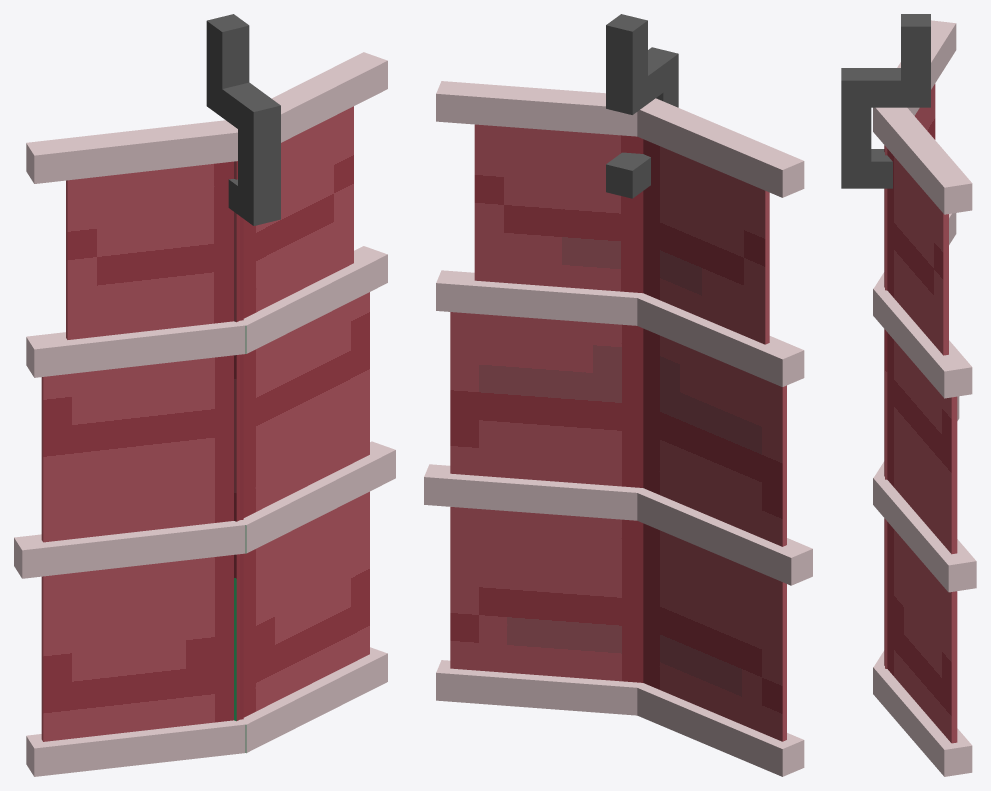
Rendered from meat.fbx.
3 views of the same model, side by side, from view 1: azimuth 30°, elevation 25°; view 2: azimuth 150°, elevation 25°; view 3: azimuth 270°, elevation 25° (orthographic). The views are drawn at different scales.
Visible parts, largest first — view 1: cube_6, cube_8, cube_12, cube_9, cube_7, cube_13, cube_11, cube_2, cube_4, cube, cube_3, cube_5 (+6 smaller); view 2: cube_7, cube_9, cube_13, cube_6, cube_8, cube_12, cube_10, cube_3, cube_11, cube_5, cube_1, cube_2 (+5 smaller); view 3: cube_7, cube_9, cube_13, cube_10, cube_3, cube_5, cube_1, cube_15, cube_17, cube_16, cube_14, cube_11 (+4 smaller).
Part boxes in pixels (box(x1,y1,x2,y2)): cube_6: box(41, 354, 243, 542); cube_8: box(41, 554, 243, 741); cube_12: box(66, 161, 243, 339); cube_9: box(234, 491, 369, 721); cube_7: box(234, 292, 369, 521); cube_13: box(234, 106, 353, 322); cube_11: box(26, 120, 237, 183); cube_2: box(14, 519, 246, 578); cube_4: box(26, 320, 246, 377); cube: box(26, 719, 246, 776); cube_3: box(243, 441, 395, 553); cube_5: box(243, 246, 387, 353); cube_7: box(450, 312, 643, 487); cube_9: box(450, 507, 643, 682); cube_13: box(474, 124, 643, 293); cube_6: box(643, 328, 786, 546); cube_8: box(643, 523, 786, 741); cube_12: box(643, 139, 769, 344); cube_10: box(436, 81, 650, 136); cube_3: box(424, 464, 648, 520); cube_11: box(637, 98, 804, 197); cube_5: box(436, 270, 637, 325); cube_1: box(436, 660, 647, 715); cube_2: box(637, 490, 812, 585); cube_7: box(884, 329, 957, 554); cube_9: box(884, 518, 957, 743); cube_13: box(884, 145, 948, 355); cube_10: box(873, 107, 972, 214); cube_3: box(873, 476, 976, 592); cube_5: box(873, 288, 972, 398); cube_1: box(873, 665, 972, 776); cube_15: box(841, 68, 930, 107); cube_17: box(901, 14, 930, 80); cube_16: box(841, 107, 871, 161); cube_14: box(841, 149, 892, 188); cube_11: box(897, 20, 956, 115).
Bounding box in the file's own units: 87.94 × 156 × 28.32.
Materials: 2 (2 with a texture image).
